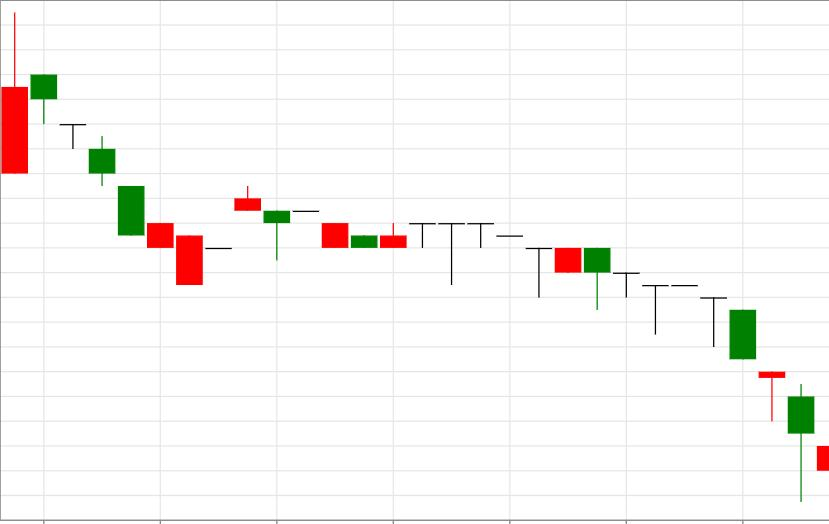hammer_rise: (585, 248, 814, 502)
